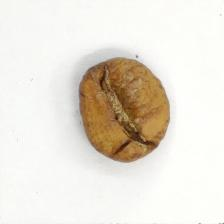NG: (91, 66, 153, 142)
